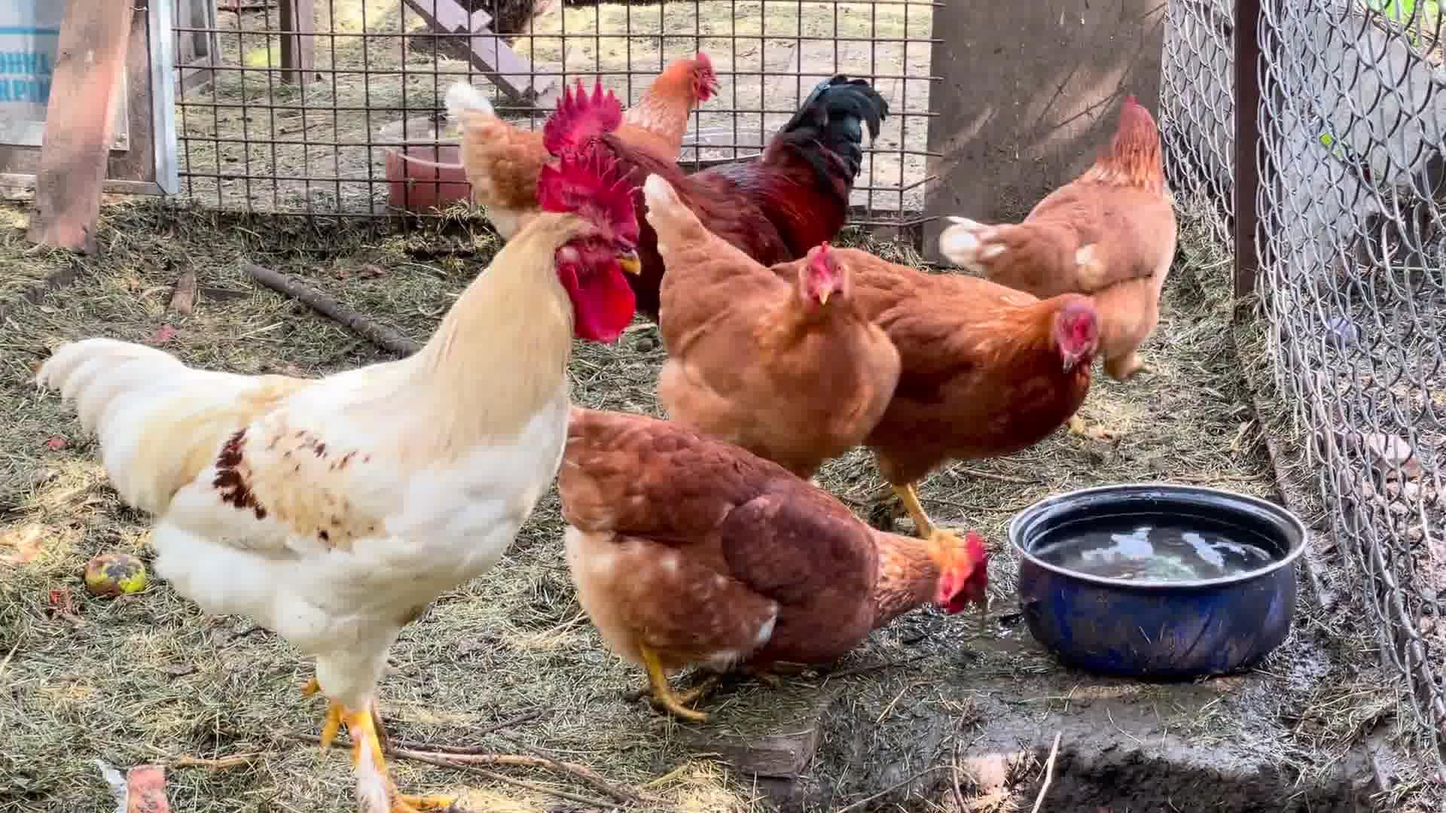Normal: (38, 142, 646, 813), (633, 157, 1117, 530), (563, 397, 997, 727), (390, 19, 873, 292), (927, 106, 1189, 386)
